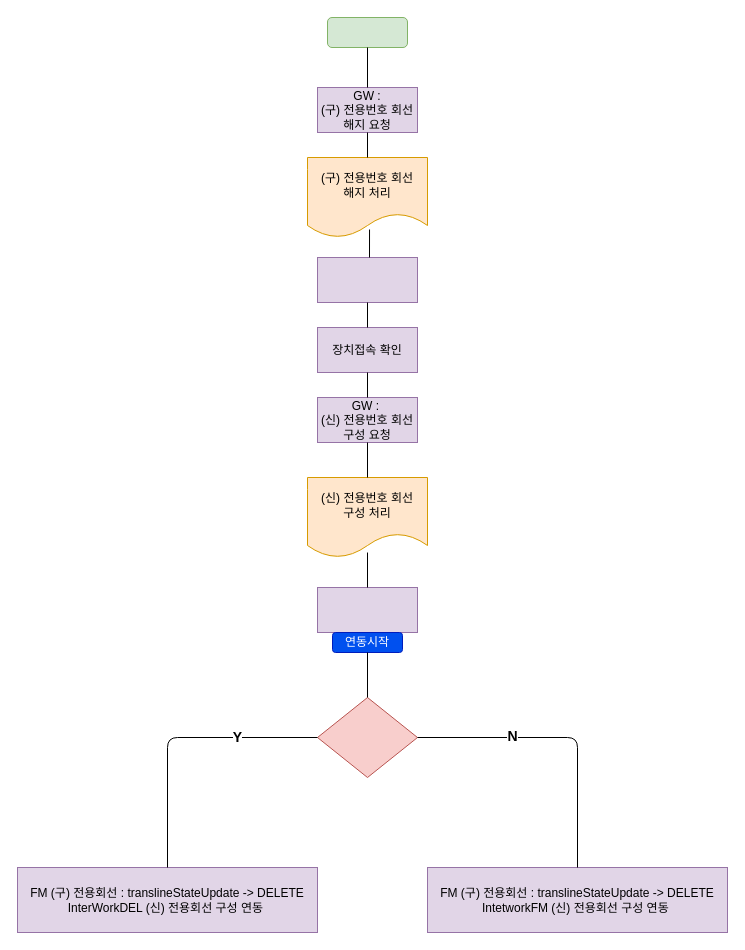
Image size: 745x950. Some labels were removed from this diagram. The shapes that lost their labels are listed below. From the top down, each one's centre as x and y in pixels, then its label:
(367,32): START
(367,279): (신) 전용번호 회선 설계
(367,609): 작업 완료 버튼 클릭
(367,737): (신) 전용번호 Del 청약인 경우
